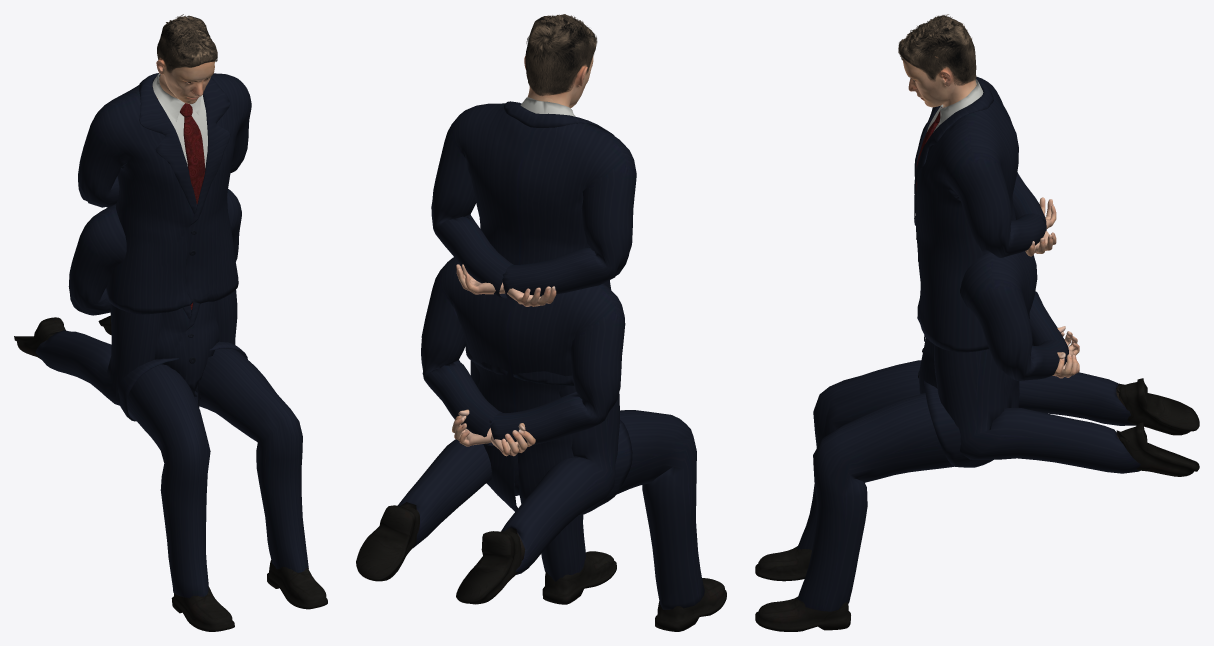
File: civ_abgeordneter_geisel.glb
3 renders of one model, left to right at view 1: azimuth 30°, elevation 25°; view 2: azimuth 150°, elevation 25°; view 3: azimuth 270°, elevation 25°, orthographic. The views are drawn at different scales.
Visible parts, largest first — view 1: kneel, bound_seat; view 2: kneel, bound_seat; view 3: kneel, bound_seat.
Boxes of the visible parts, <box> form: kneel: <box>14,14,251,405</box>; bound_seat: <box>68,189,327,631</box>; kneel: <box>356,14,636,604</box>; bound_seat: <box>421,257,726,631</box>; kneel: <box>898,14,1199,476</box>; bound_seat: <box>755,251,1079,631</box>.
Bounding box in the file's own units: 0.5704 × 1.8 × 1.25.
Materials: 7 (7 with a texture image).
